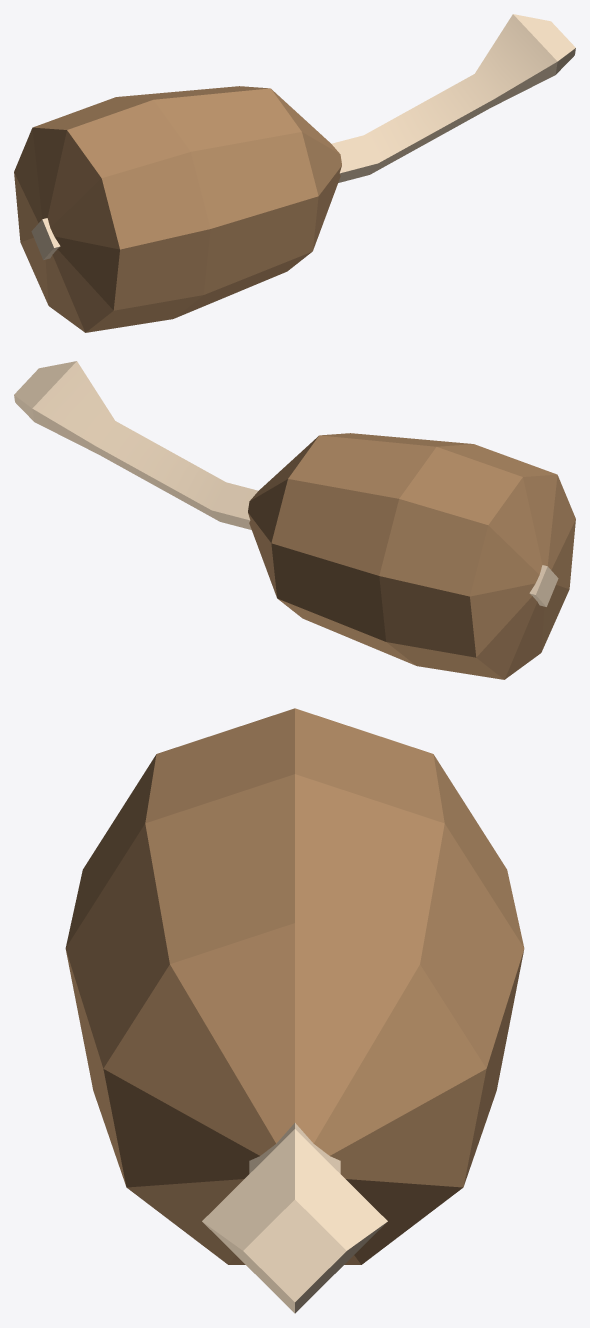
The model's file is SM_chicken.fbx.
The picture shows the model from 3 angles, top to bottom: view 1: azimuth 30°, elevation 25°; view 2: azimuth 150°, elevation 25°; view 3: azimuth 270°, elevation 25°; orthographic projection. The views are drawn at different scales.
Parts seen in each view (by area): view 1: Line011; view 2: Line011; view 3: Line011.
Boxes of the visible parts, left/top/right/bottom form: Line011: left=14, top=14, right=575, bottom=332; Line011: left=14, top=361, right=575, bottom=679; Line011: left=65, top=708, right=524, bottom=1313.
Bounding box in the file's own units: 17.03 × 6.25 × 6.35.
